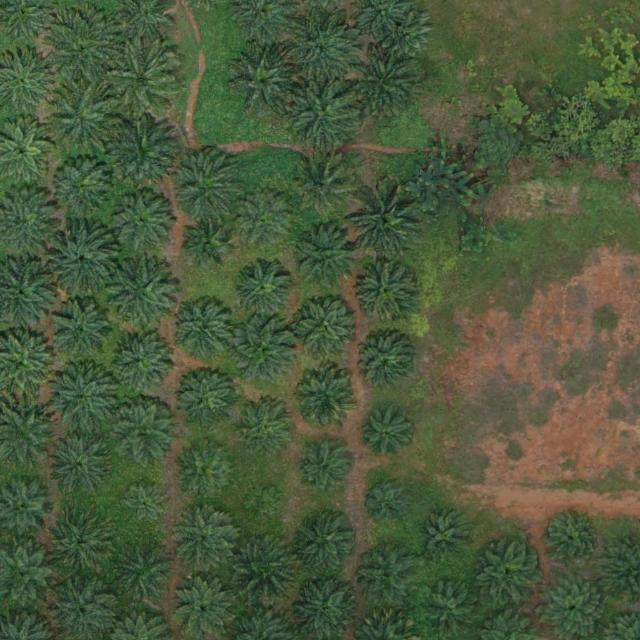Kelapa_Sawit: (46, 3, 116, 84), (45, 81, 115, 152), (104, 43, 174, 114), (107, 114, 177, 185), (105, 186, 175, 257), (169, 152, 239, 223), (289, 290, 359, 361), (225, 315, 295, 386), (350, 187, 420, 257), (45, 219, 115, 289), (106, 259, 176, 329), (228, 46, 298, 116), (285, 14, 355, 84), (288, 79, 358, 149), (291, 224, 361, 294), (349, 53, 419, 123), (289, 509, 359, 579), (227, 532, 297, 602), (49, 364, 119, 434), (49, 575, 116, 639), (541, 575, 603, 640), (294, 155, 356, 218), (49, 299, 111, 362), (353, 259, 415, 322), (354, 544, 416, 607), (236, 396, 298, 459), (172, 364, 234, 427), (175, 438, 237, 501), (170, 506, 232, 569), (170, 575, 232, 638), (110, 329, 172, 392), (110, 399, 172, 462), (112, 541, 174, 604), (48, 430, 110, 493), (46, 513, 108, 576), (0, 181, 56, 250), (50, 153, 112, 215), (168, 299, 230, 361), (232, 188, 294, 250), (230, 258, 292, 320), (354, 330, 416, 392), (292, 367, 354, 429), (475, 543, 537, 605), (0, 253, 52, 326), (293, 579, 355, 640), (0, 114, 54, 180), (0, 324, 50, 393), (0, 535, 50, 603), (0, 399, 50, 466), (0, 42, 48, 109), (0, 472, 50, 533), (358, 408, 413, 463), (417, 509, 472, 564), (376, 9, 430, 64), (424, 579, 478, 634), (296, 440, 350, 495), (542, 511, 596, 566), (599, 533, 640, 602), (227, 0, 288, 42), (182, 217, 228, 264), (118, 0, 172, 40), (119, 482, 165, 528), (0, 0, 48, 40), (366, 483, 405, 522), (242, 485, 280, 524)
